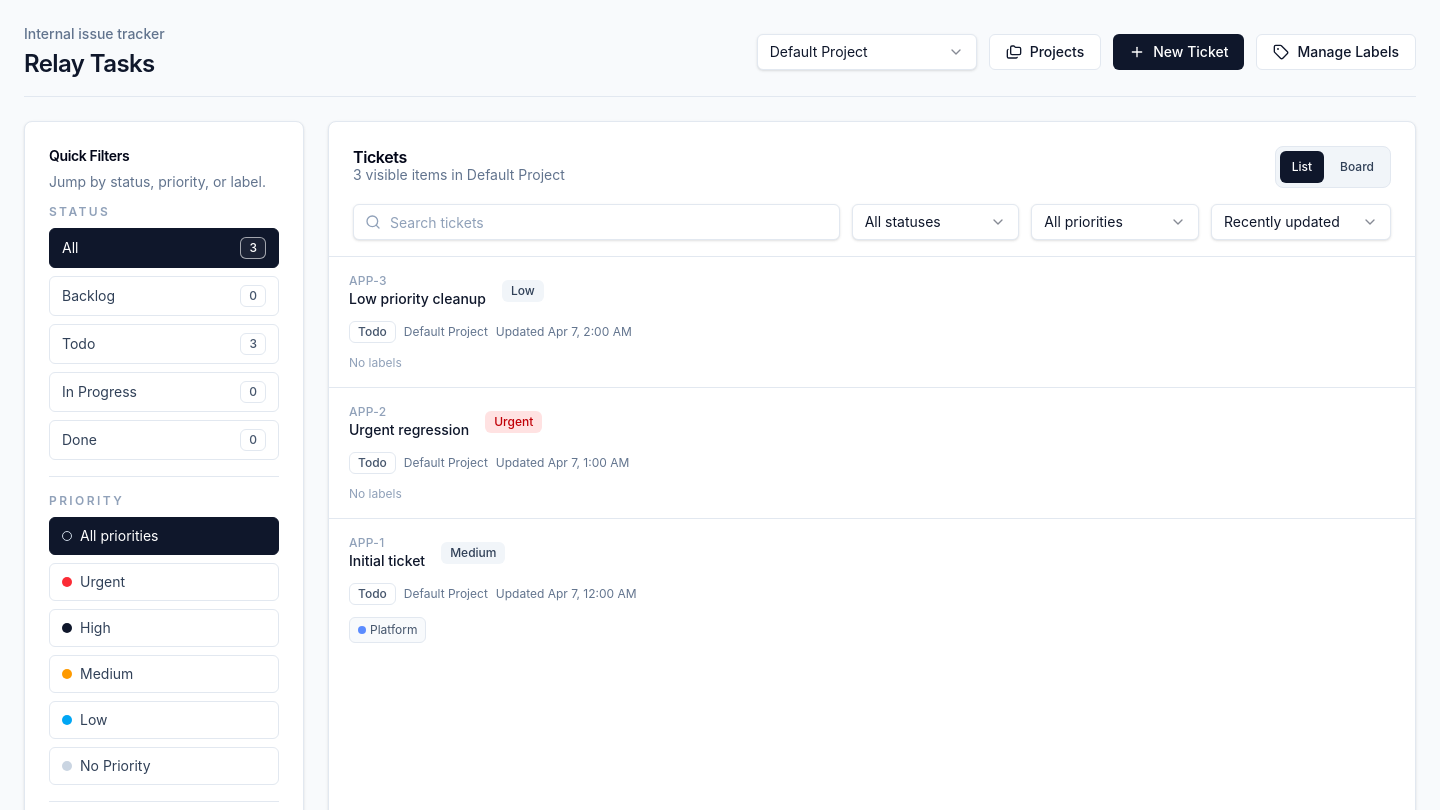
it: App › sorts tickets by priority
Expected: the button "Low priority cleanup" is shown, [329, 257, 1415, 388]
Click the dropdown named "Sort tickets": [1301, 222] box [1211, 204, 1391, 240]
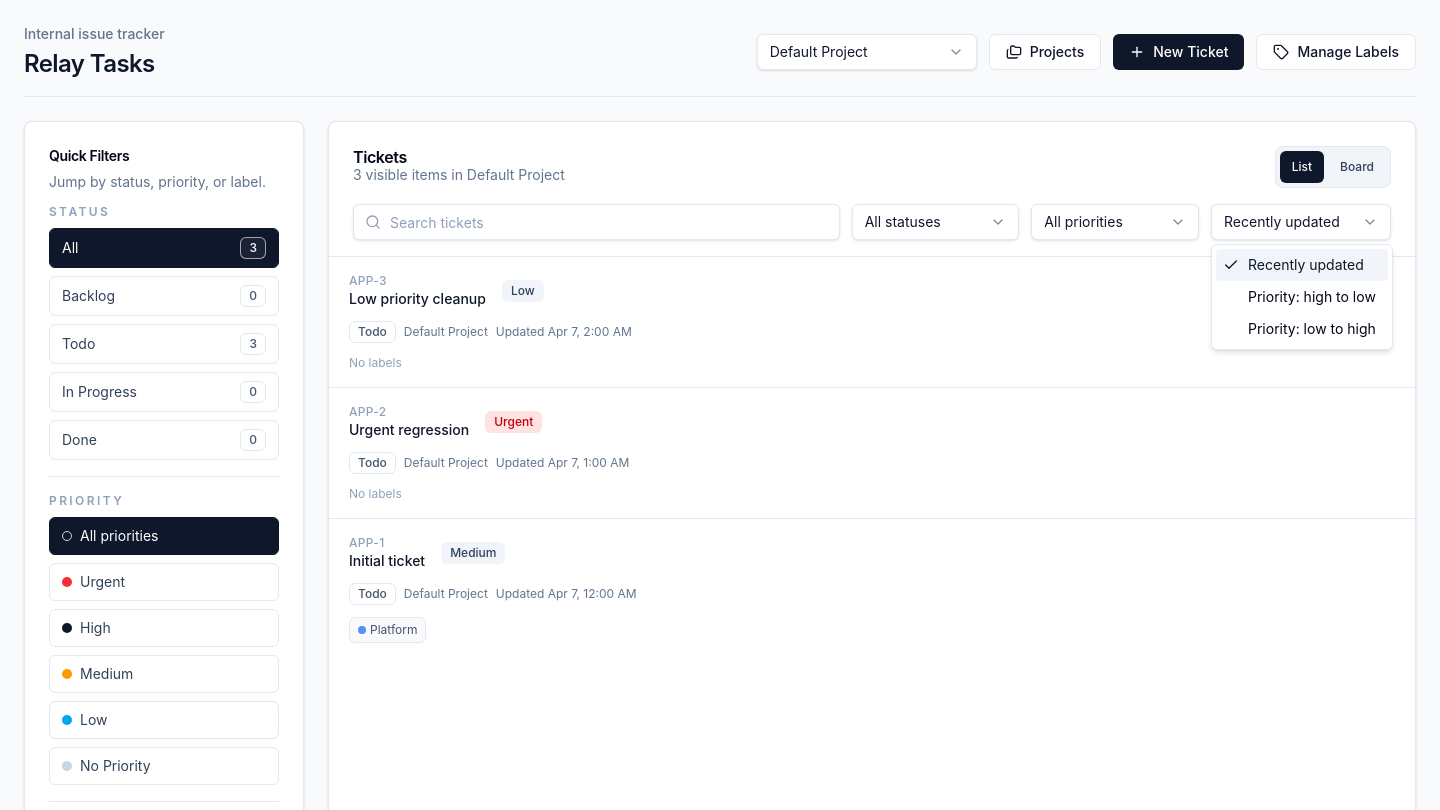
Click the option "Priority: high to low": [1312, 296] box [1248, 288, 1376, 305]
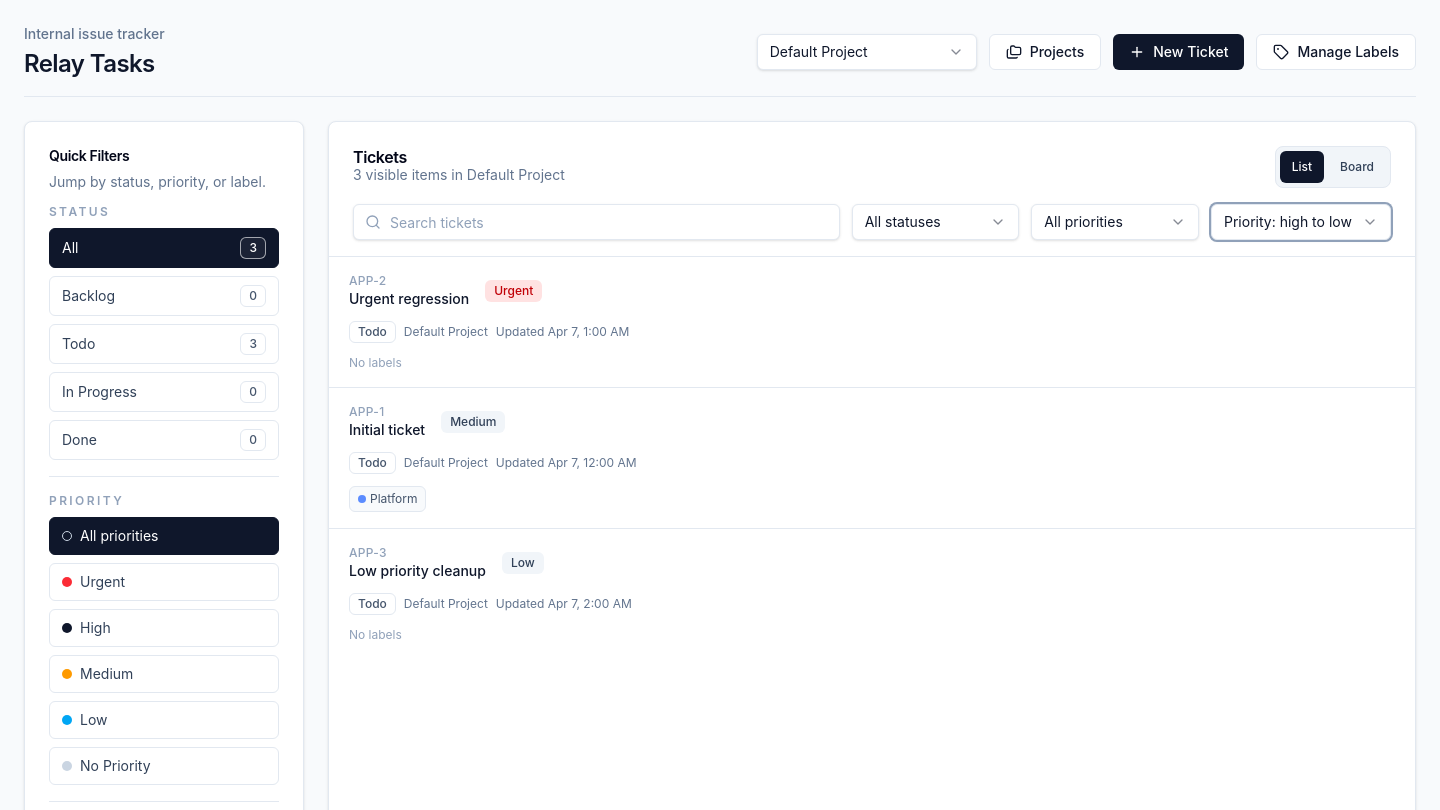
Expected: the button that starts with "APP-2" shows "Urgent regression", [329, 257, 1415, 388]
